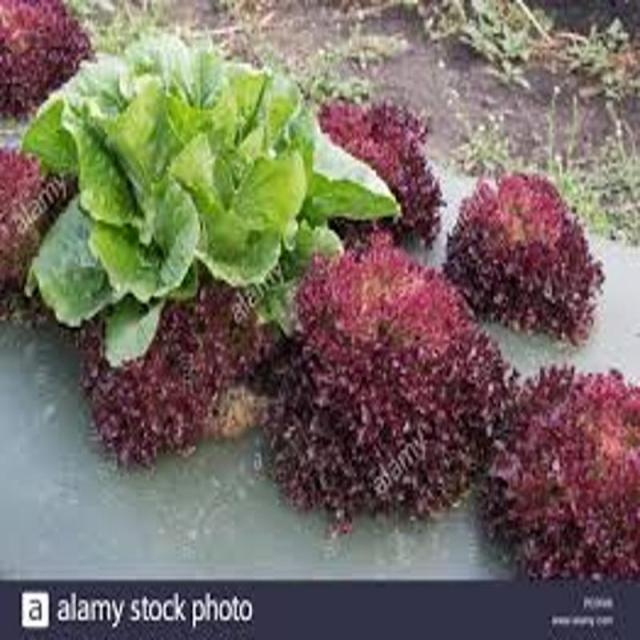Lettuce: (38, 15, 347, 322), (65, 244, 298, 504), (278, 240, 494, 515), (475, 348, 640, 568), (285, 62, 448, 258), (462, 150, 622, 340), (2, 130, 82, 338), (0, 0, 108, 136)
